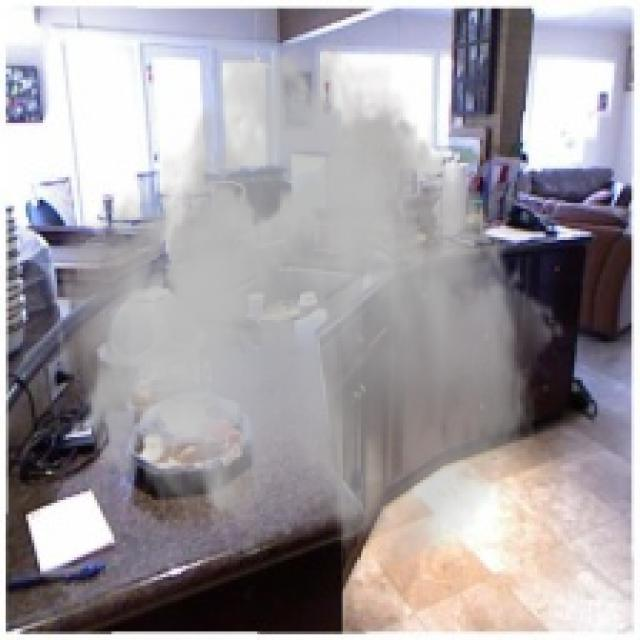Smoke: (51, 14, 566, 572)
